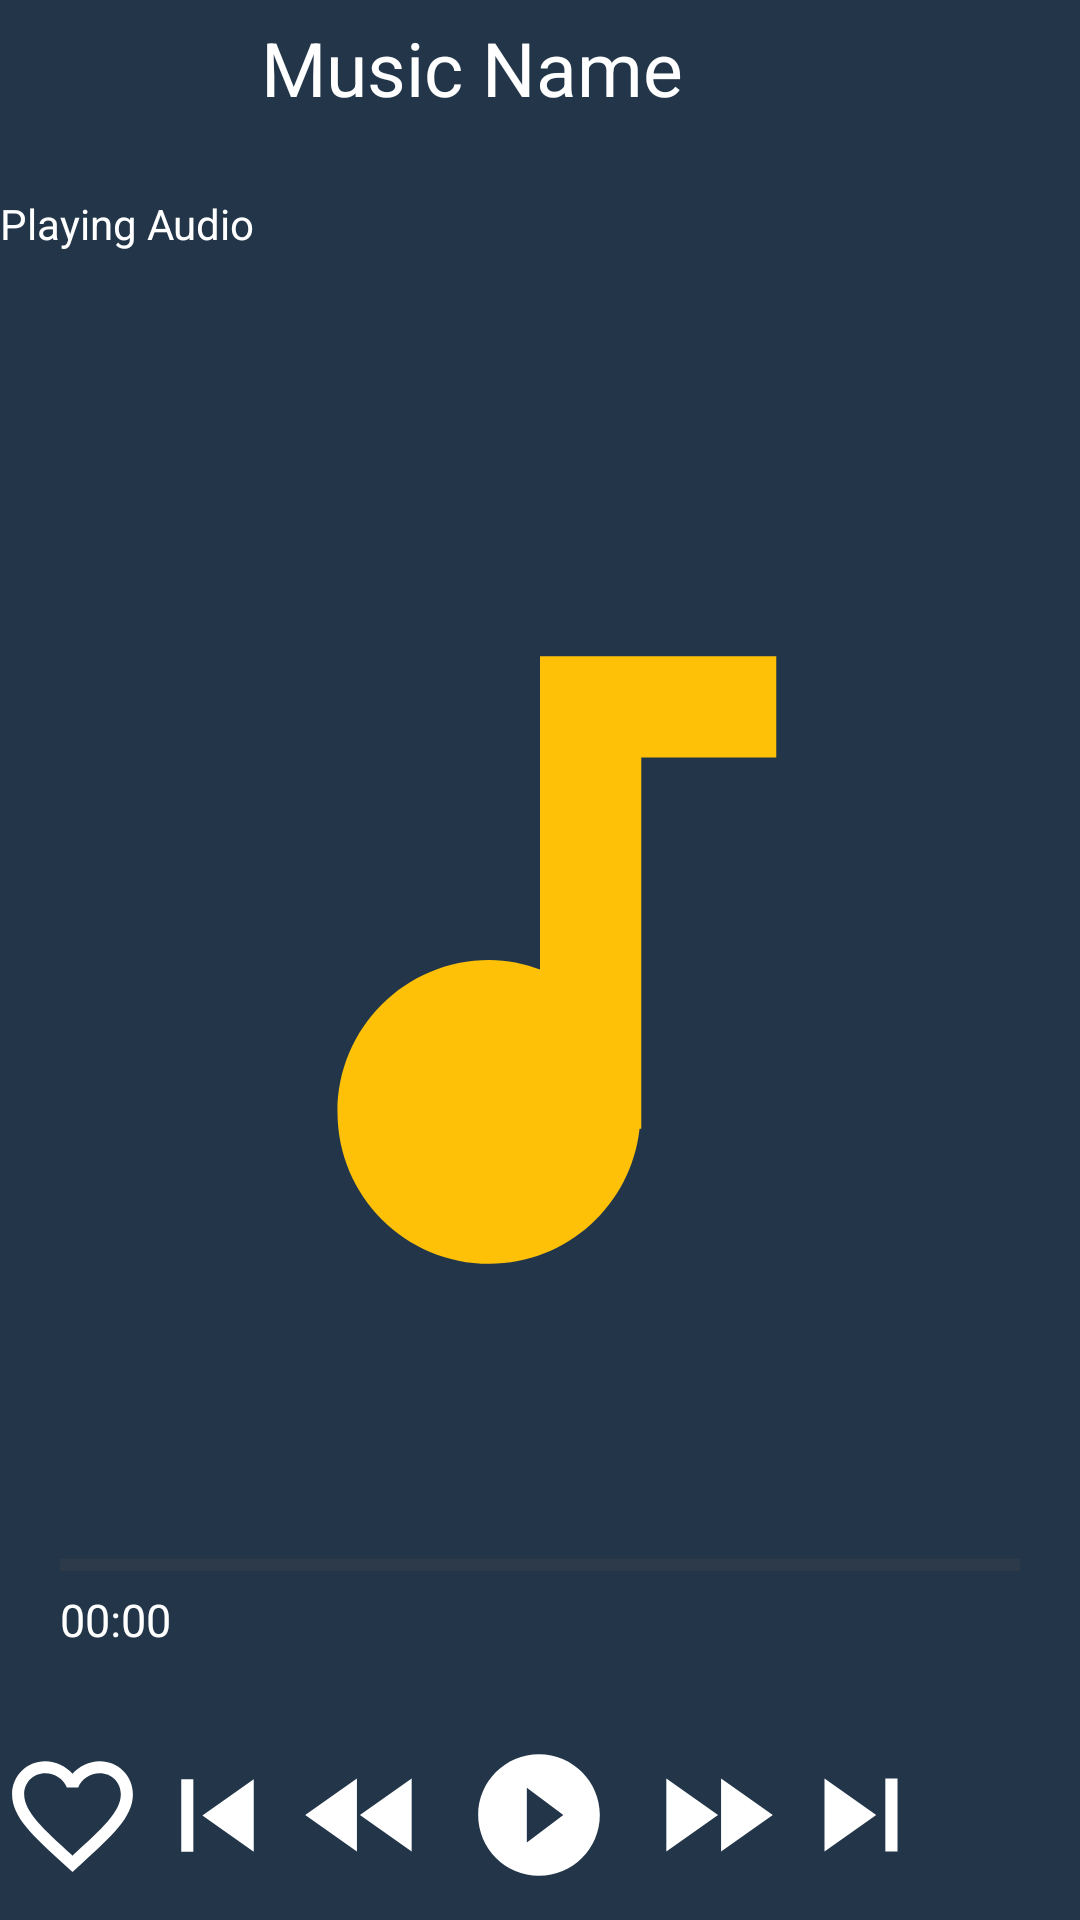

Icon bounding boxes for this 1080w x 1920h phone screenshot, format (x1, y1, x2, y2):
fast forward: (666, 1778, 773, 1852)
fast rewind: (305, 1778, 412, 1852)
favorite border: (12, 1761, 133, 1872)
play circle: (478, 1754, 600, 1876)
skip next: (824, 1778, 898, 1852)
skip previous: (181, 1779, 254, 1852)
